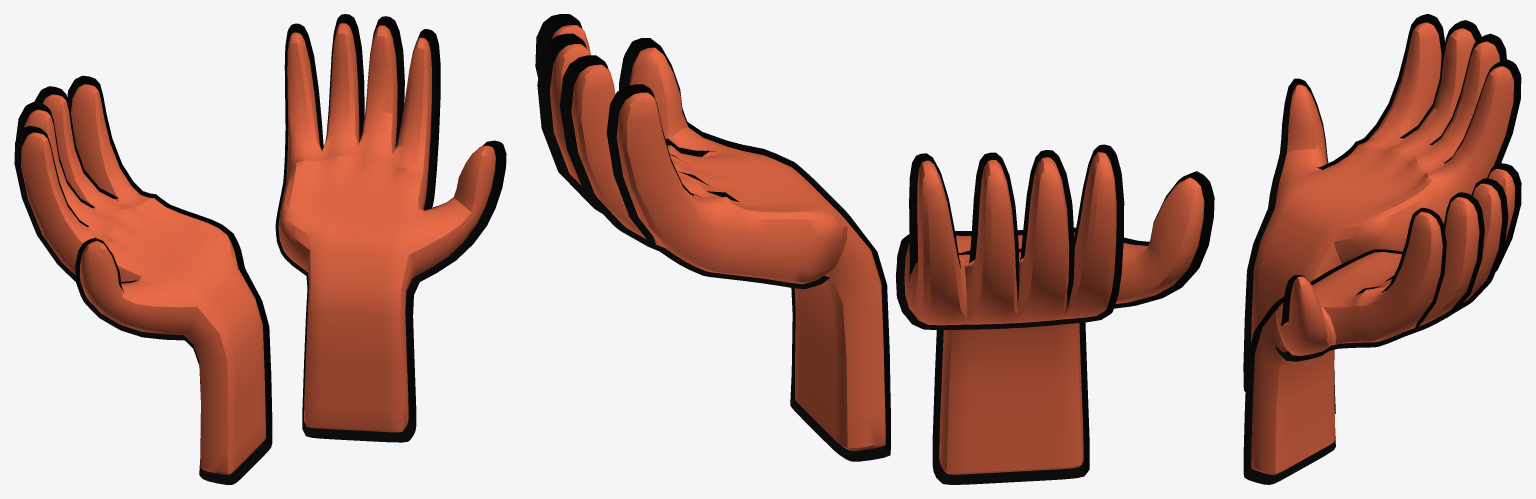
File: ManoBubies.fbx
The picture shows the model from 3 angles, left to right: view 1: azimuth 30°, elevation 25°; view 2: azimuth 150°, elevation 25°; view 3: azimuth 270°, elevation 25°; orthographic projection. The views are drawn at different scales.
Parts seen in each view (by area): view 1: Cube.001; view 2: Cube.001; view 3: Cube.001.
Part boxes in pixels (x1,y1,x2,y2): Cube.001: [14, 14, 506, 484]; Cube.001: [535, 14, 1214, 484]; Cube.001: [1243, 14, 1521, 484].
Size of the model in its own units: 704 by 512 by 393.
